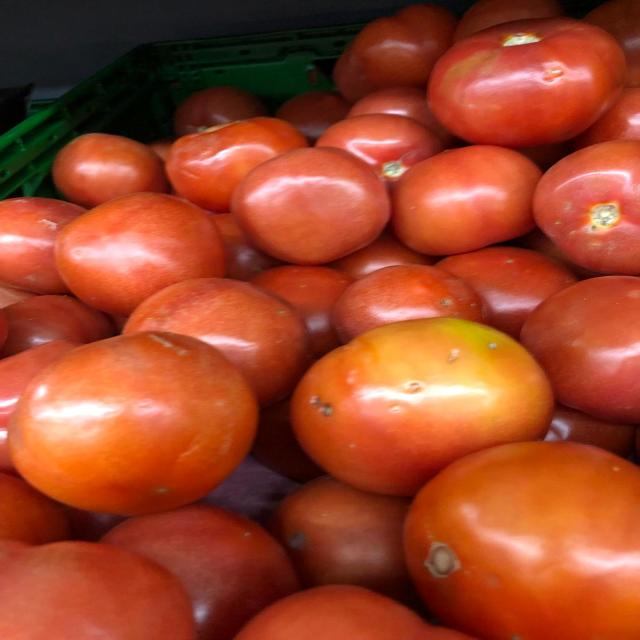tomato: (282, 303, 574, 485), (13, 317, 259, 509), (420, 7, 636, 157), (53, 182, 231, 316), (232, 144, 388, 262)
